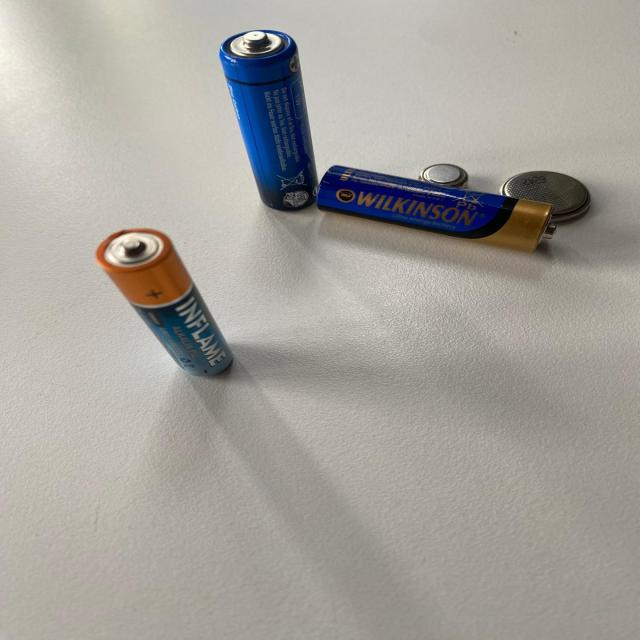AA: (217, 28, 318, 212)
AAA: (94, 226, 233, 377)
